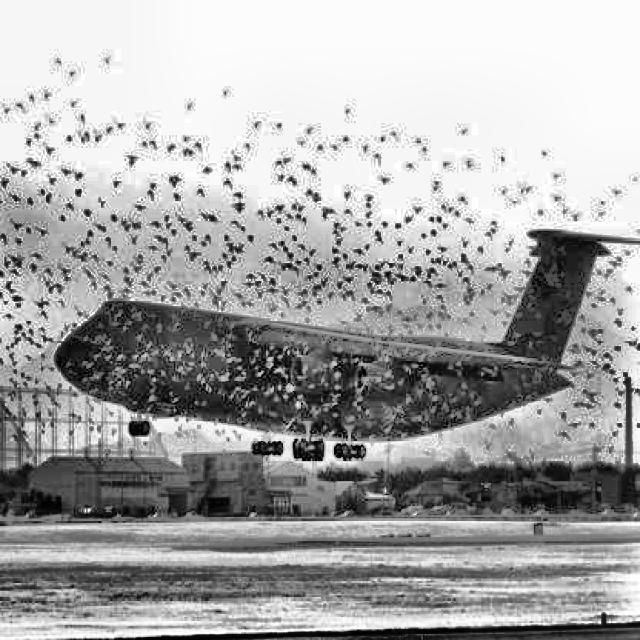C5: (53, 228, 639, 462)
